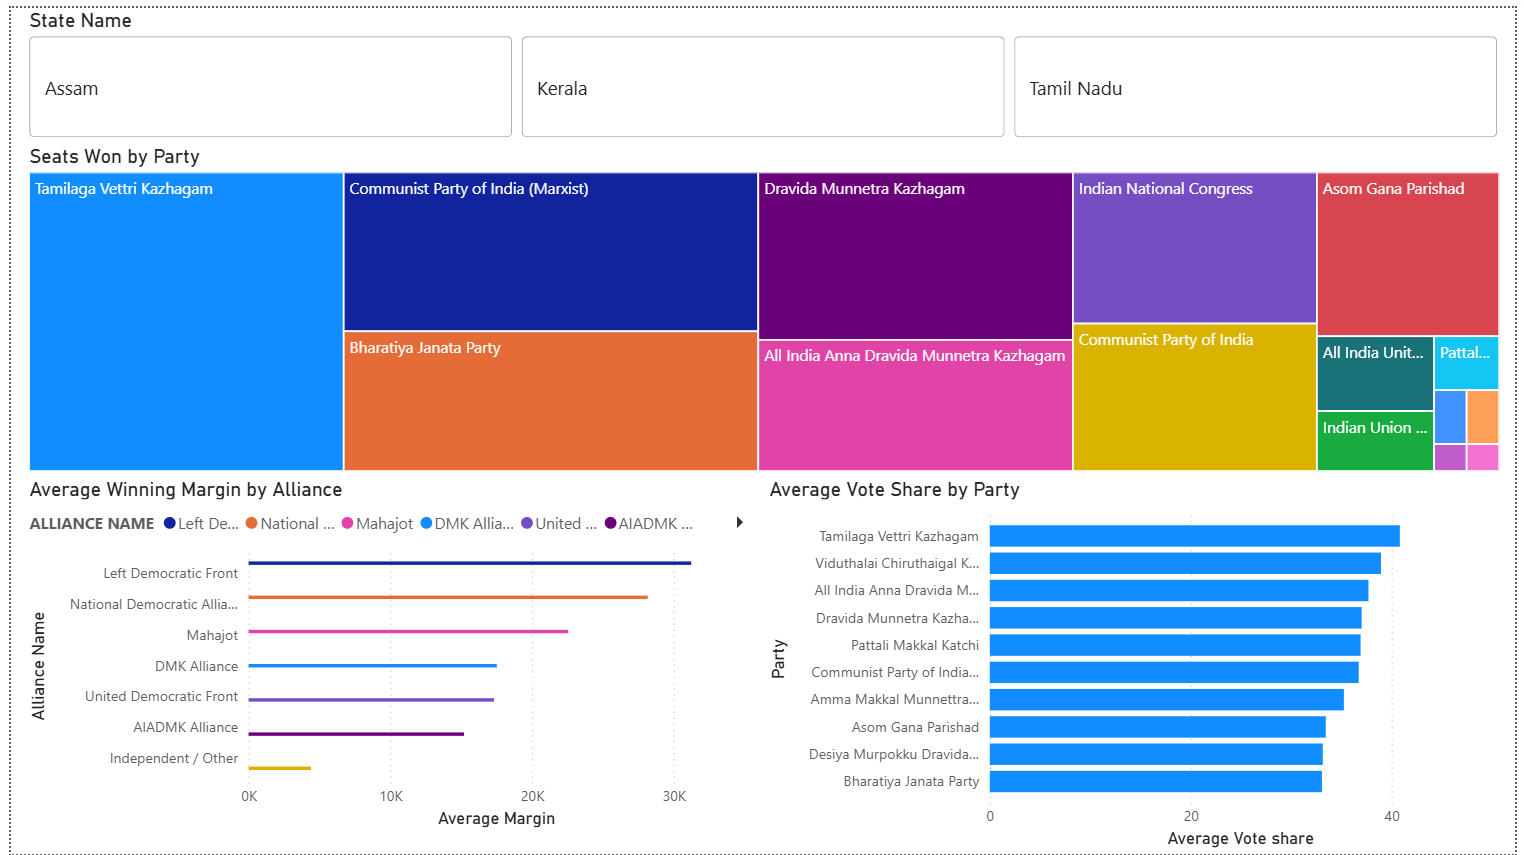

The page's visual inventory and layout, read from the dashboard file:
{"tool":"powerbi","page":{"name":"Party & Alliance Battle","canvas":[1280,720],"ordinal":2},"visuals":[{"type":"treemap","title":"Seats Won by Party","fields":{"Group":["Sheet1.Party"],"Values":["Sheet1.Total Seats"]},"box":[11.1,115.6,1261.1,283.3],"z":0},{"type":"clusteredBarChart","title":"Average Winning Margin by Alliance","fields":{"Category":["Sheet1.ALLIANCE_NAME"],"Y":["Sheet1.Avg Margin"],"Series":["Sheet1.ALLIANCE_NAME"]},"box":[11.1,398.9,628.9,303.3],"z":1000},{"type":"clusteredBarChart","title":"Average Vote Share by Party","fields":{"Category":["Sheet1.Party"],"Y":["Sheet1.Avg Vote Share"]},"box":[640,398.9,632.2,321.1],"z":2000},{"type":"advancedSlicerVisual","title":"State Name","fields":{"Values":["Sheet1.State_Name"]},"box":[11.1,0,1261.1,115.6],"z":3000}]}

Visuals, with their boxes in screenshot pixels (x1, y1, x2, y2), scaled from the page's 1280x720 canvas onto the 1524x855 screenshot:
"Seats Won by Party" treemap: <region>13, 137, 1515, 474</region>
"Average Winning Margin by Alliance" clusteredBarChart: <region>13, 474, 762, 834</region>
"Average Vote Share by Party" clusteredBarChart: <region>762, 474, 1515, 854</region>
"State Name" advancedSlicerVisual: <region>13, 0, 1515, 137</region>
